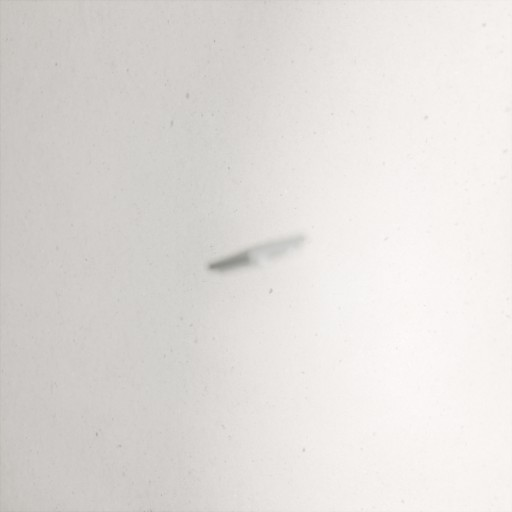lego: (205, 231, 309, 277)
